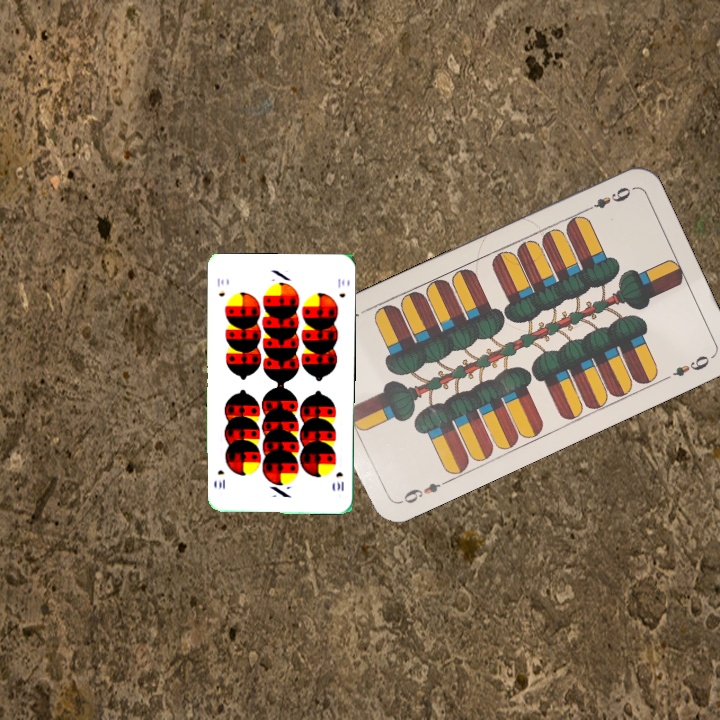E9: (395, 476, 451, 507), (580, 183, 633, 215)
S10: (332, 468, 346, 493), (213, 274, 227, 299)
